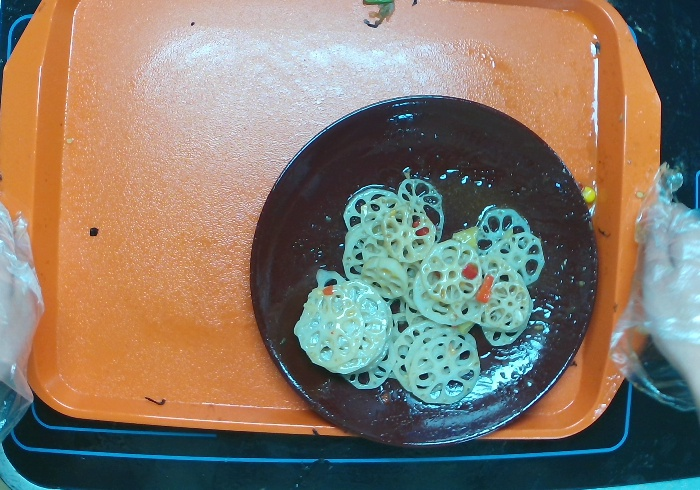HZYJPL-Ka_Fei_Yuan_Pan: (248, 92, 600, 449)
